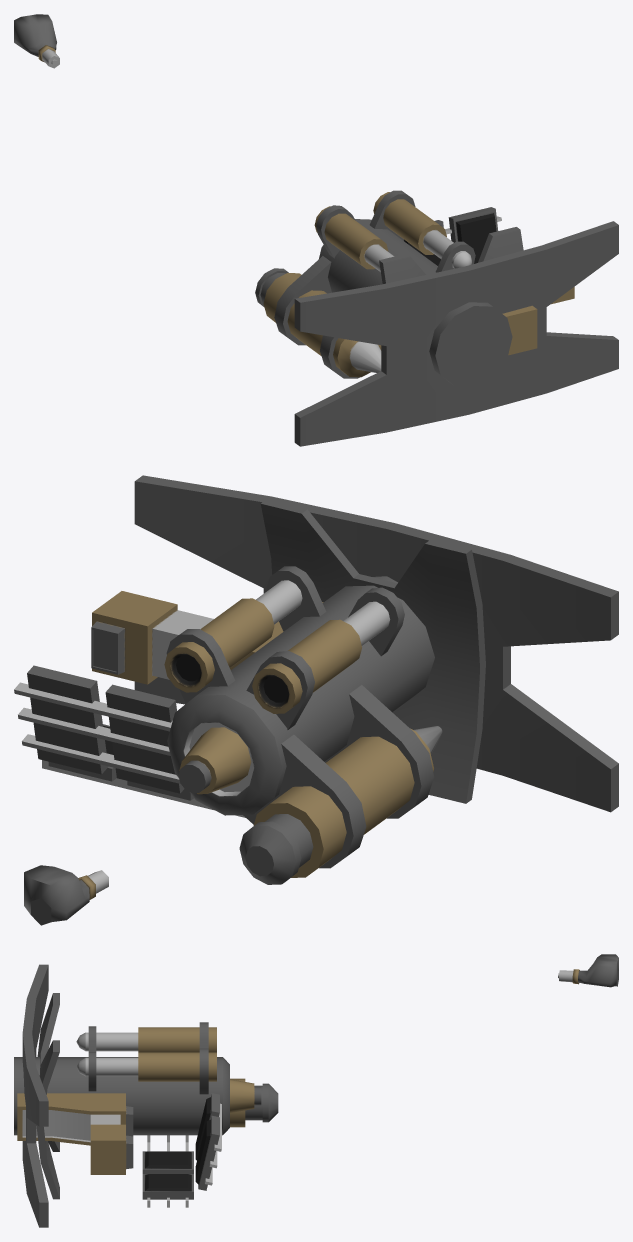
Rendered from canon.fbx.
3 renders of one model, top to bottom at view 1: azimuth 30°, elevation 25°; view 2: azimuth 150°, elevation 25°; view 3: azimuth 270°, elevation 25°, orthographic. The views are drawn at different scales.
Parts seen in each view (by area): view 1: Circle.001; view 2: Circle.001; view 3: Circle.001.
Part boxes in pixels (x1,y1,x2,y2): Circle.001: [14, 14, 618, 446]; Circle.001: [14, 475, 618, 925]; Circle.001: [14, 954, 618, 1227].
Bounding box in the file's own units: 382 × 714 × 215.
1 material, 1 textured.
